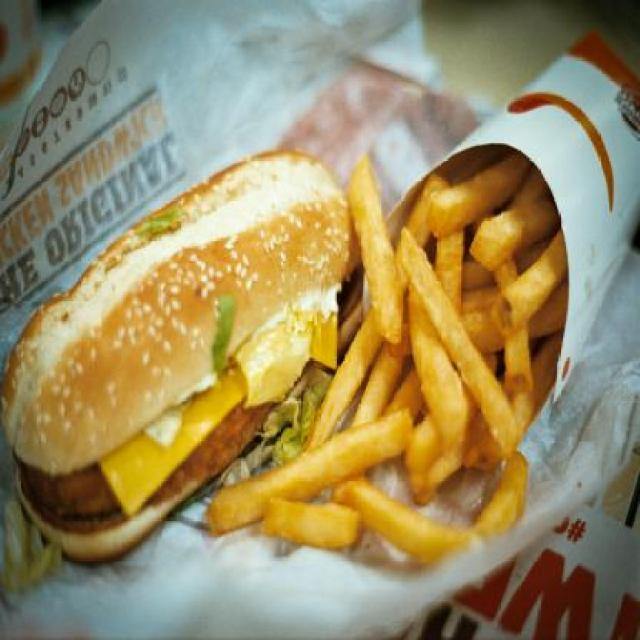Cheese: (95, 364, 248, 518), (312, 308, 340, 370)
